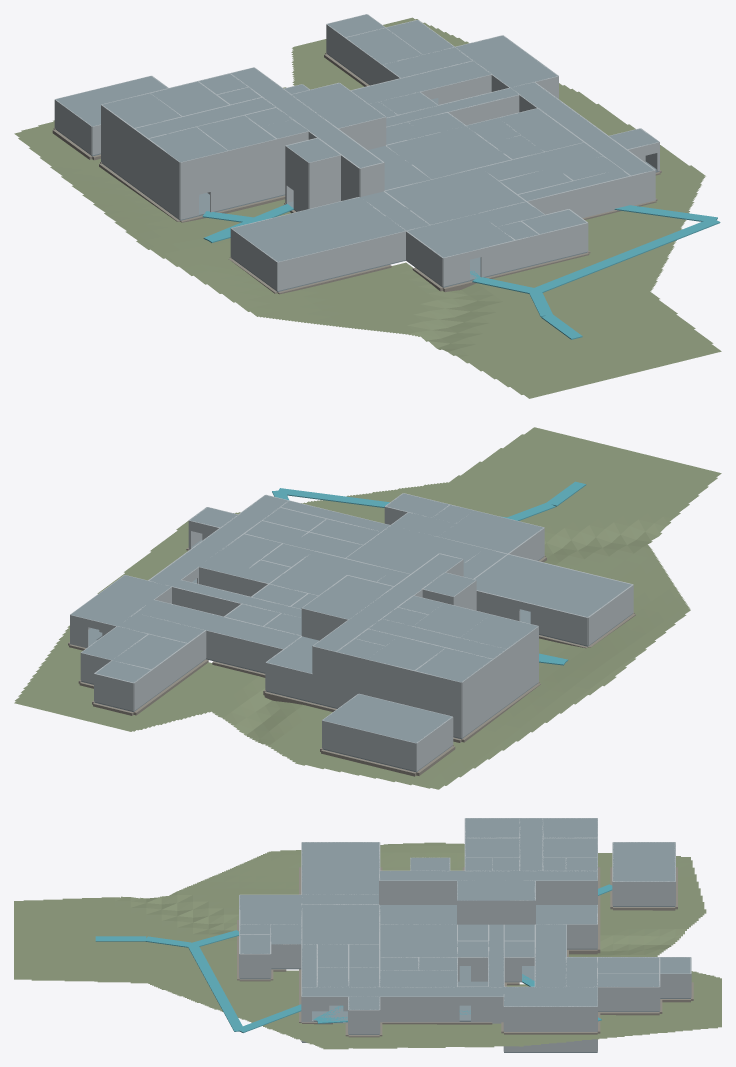
Rendered from open-circulation.glb.
The picture shows the model from 3 angles, top to bottom: view 1: azimuth 30°, elevation 25°; view 2: azimuth 150°, elevation 25°; view 3: azimuth 270°, elevation 25°; orthographic projection. The views are drawn at different scales.
Visible parts, largest first — view 1: Saved editor macroterrain ASYLUM, Ceiling cap day, Ceiling cap dining, Wall day S, Ceiling cap treatment, Ceiling cap upper-spine, Ceiling cap service, Ceiling cap service-stair, Ceiling cap admission, Wall meal-return S, Ceiling cap service-link, Ceiling cap upper-stair (+51 smaller); view 2: Saved editor macroterrain ASYLUM, Ceiling cap day, Ceiling cap dining, Ceiling cap chapel, Ceiling cap upper-spine, Wall chapel N, Ceiling cap service, Ceiling cap service-link, Ceiling cap treatment, Ceiling cap service-stair, Ceiling cap admission, Ceiling cap upper-stair (+50 smaller); view 3: Saved editor macroterrain ASYLUM, Ceiling cap day, Flat route shell Wall service E, Ceiling cap dining, Ceiling cap treatment, Ceiling cap chapel, Wall service-stair E, Ceiling cap upper-spine, Ceiling cap service, Ceiling cap service-link, Wall upper-stair E, Flat route shell Wall upper-spine E.001 (+47 smaller).
Part boxes in pixels (bbox=[...]): Saved editor macroterrain ASYLUM: bbox=[14, 17, 721, 398]; Ceiling cap day: bbox=[232, 197, 405, 261]; Ceiling cap dining: bbox=[385, 168, 525, 224]; Wall day S: bbox=[277, 231, 405, 290]; Ceiling cap treatment: bbox=[387, 126, 511, 179]; Ceiling cap upper-spine: bbox=[231, 67, 382, 167]; Ceiling cap service: bbox=[511, 82, 653, 175]; Ceiling cap service-stair: bbox=[455, 36, 557, 87]; Ceiling cap admission: bbox=[407, 213, 513, 257]; Wall meal-return S: bbox=[527, 176, 631, 216]; Ceiling cap service-link: bbox=[351, 61, 490, 103]; Ceiling cap upper-stair: bbox=[292, 83, 385, 128]; Saved editor macroterrain ASYLUM: bbox=[14, 427, 721, 789]; Ceiling cap day: bbox=[474, 554, 631, 617]; Ceiling cap dining: bbox=[346, 525, 483, 573]; Ceiling cap chapel: bbox=[323, 694, 451, 743]; Ceiling cap upper-spine: bbox=[313, 554, 462, 651]; Wall chapel N: bbox=[322, 720, 416, 771]; Ceiling cap service: bbox=[149, 495, 287, 586]; Ceiling cap service-link: bbox=[136, 600, 300, 648]; Ceiling cap treatment: bbox=[270, 551, 391, 595]; Ceiling cap service-stair: bbox=[71, 575, 171, 626]; Ceiling cap admission: bbox=[438, 510, 543, 553]; Ceiling cap upper-stair: bbox=[302, 575, 392, 619]; Saved editor macroterrain ASYLUM: bbox=[14, 842, 721, 1049]; Ceiling cap day: bbox=[302, 842, 379, 894]; Flat route shell Wall service E: bbox=[323, 996, 503, 1020]; Ceiling cap dining: bbox=[302, 904, 379, 944]; Ceiling cap treatment: bbox=[380, 924, 457, 957]; Ceiling cap chapel: bbox=[613, 842, 675, 881]; Wall service-stair E: bbox=[504, 1006, 597, 1030]; Ceiling cap upper-spine: bbox=[379, 871, 597, 880]; Ceiling cap service: bbox=[302, 987, 503, 996]; Ceiling cap service-link: bbox=[535, 924, 566, 986]; Wall upper-stair E: bbox=[457, 900, 535, 924]; Flat route shell Wall upper-spine E.001: bbox=[379, 880, 464, 904].
Bounding box in the file's own units: 62 × 9.96 × 91.
